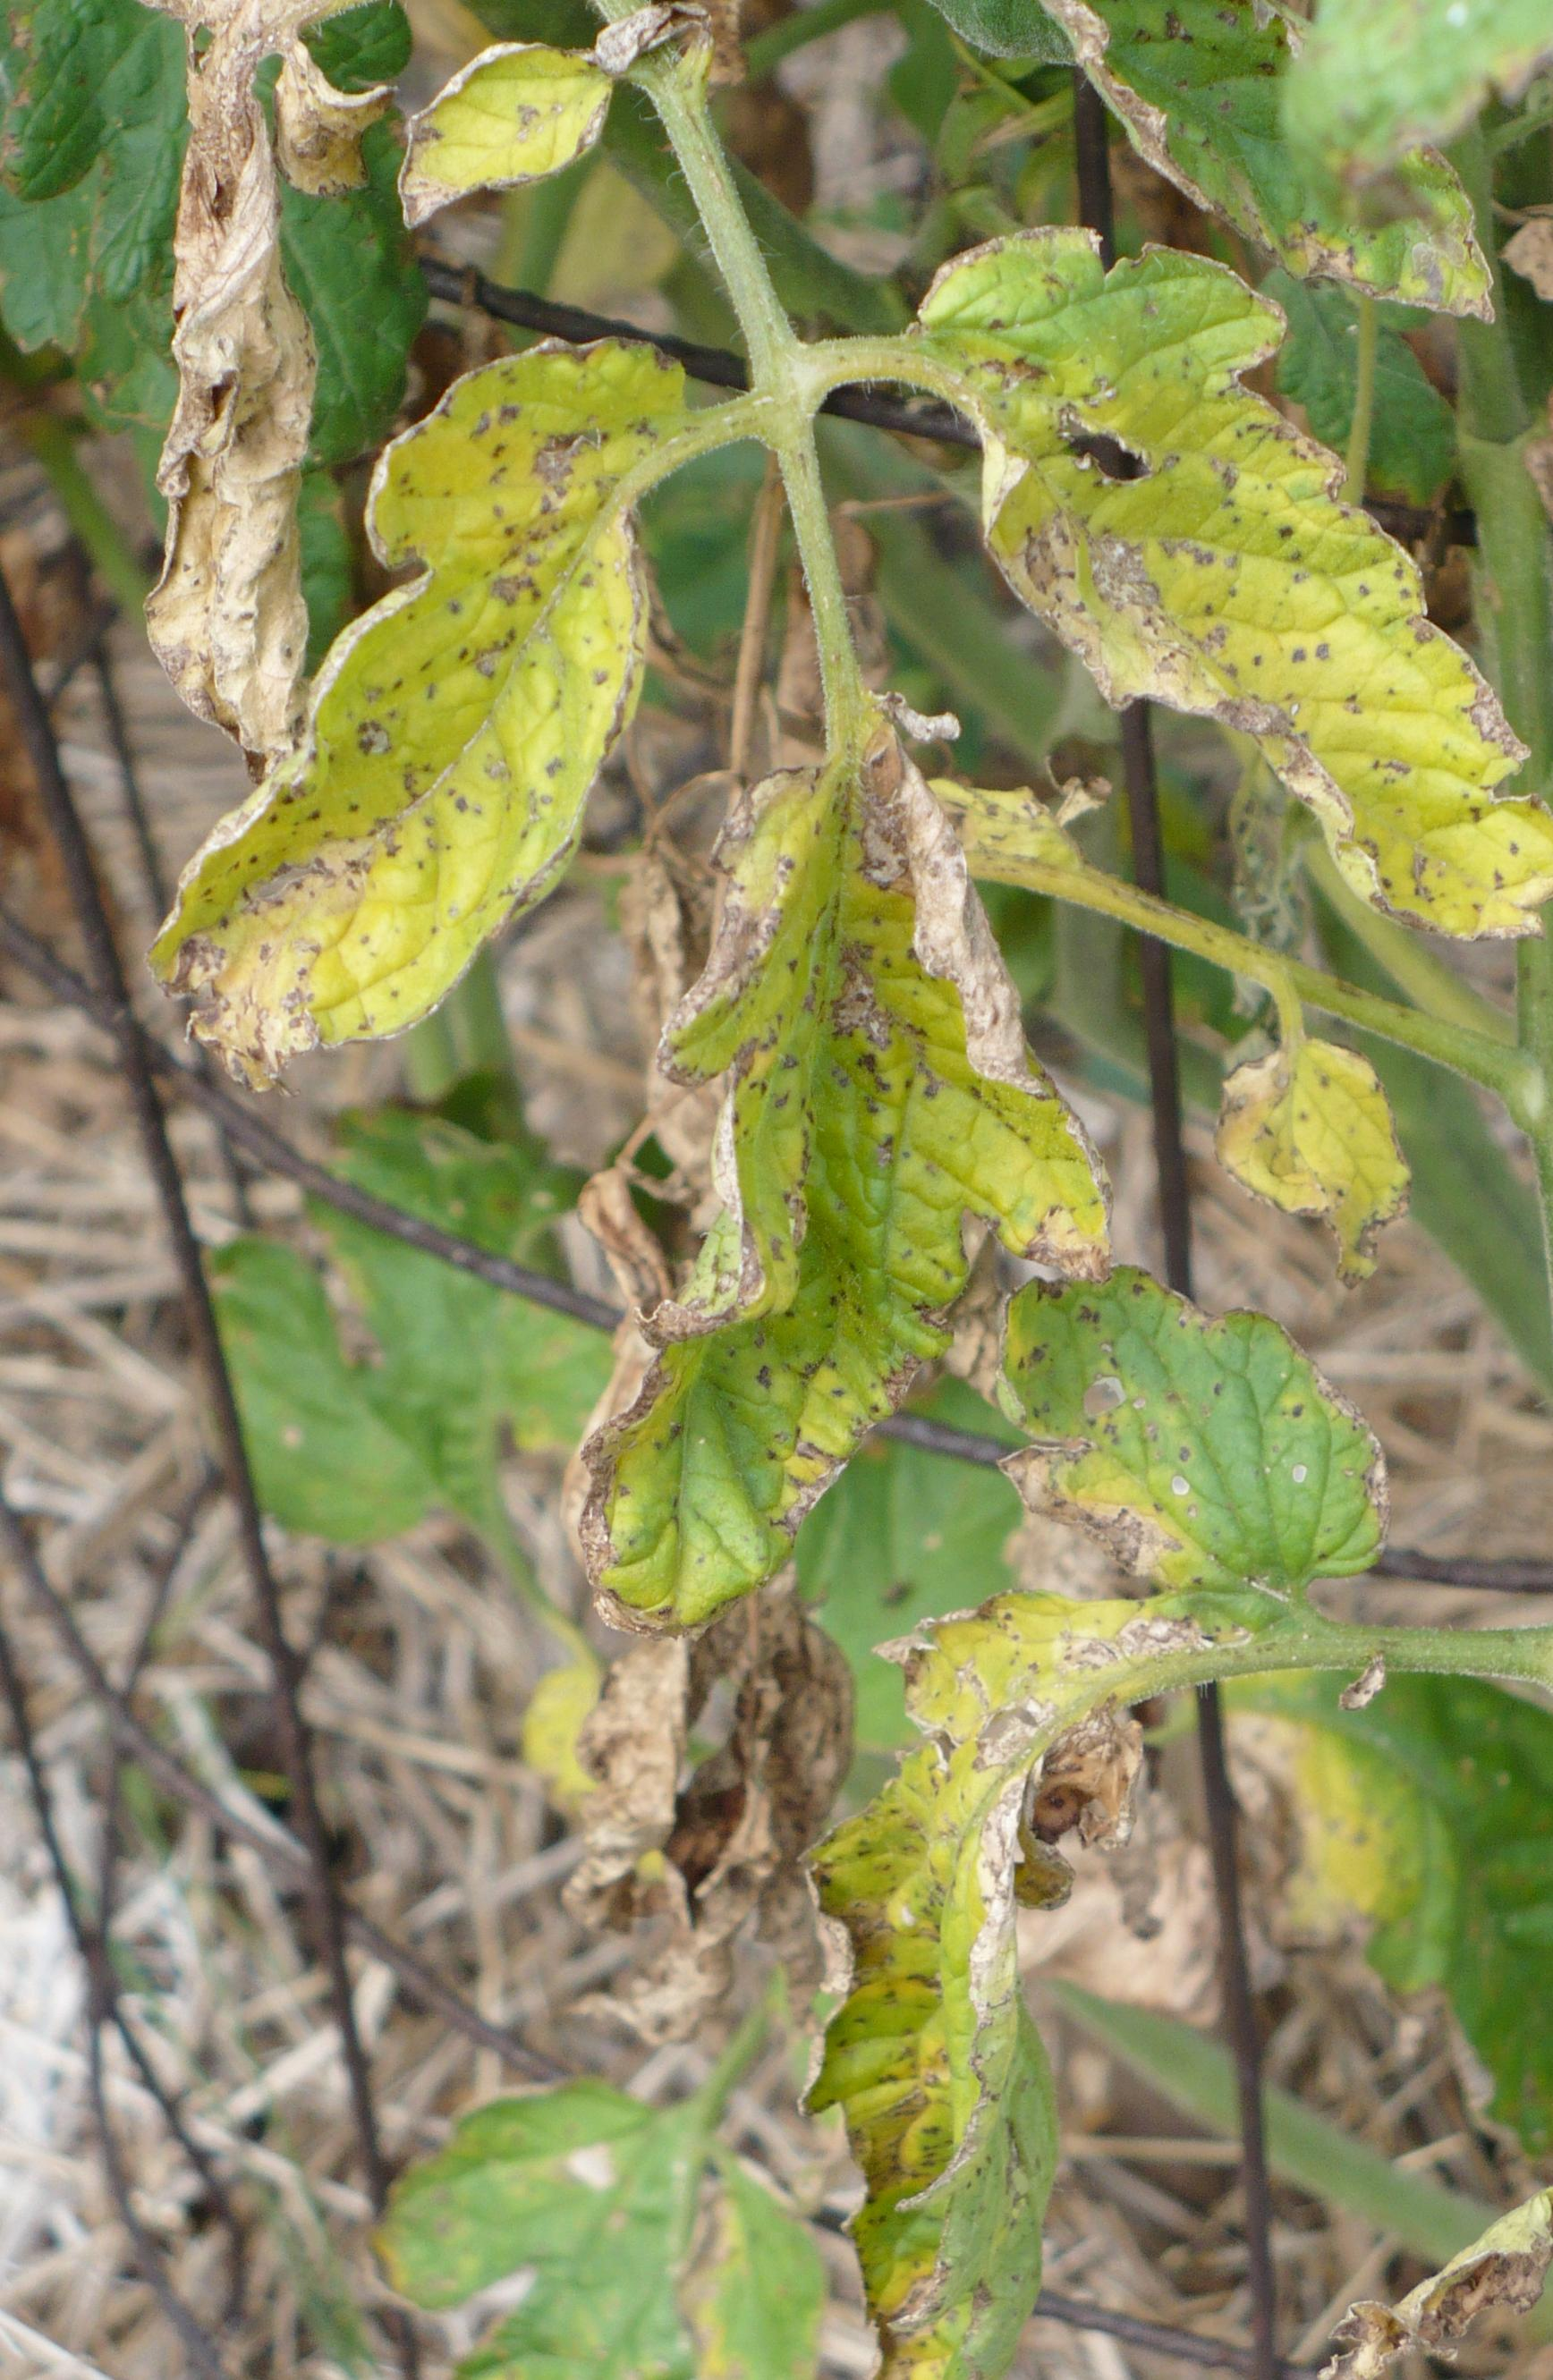Tomato Septoria leaf spot: (791, 1311, 1489, 2380), (861, 210, 1553, 989), (540, 753, 1128, 1608), (210, 323, 737, 1076)
